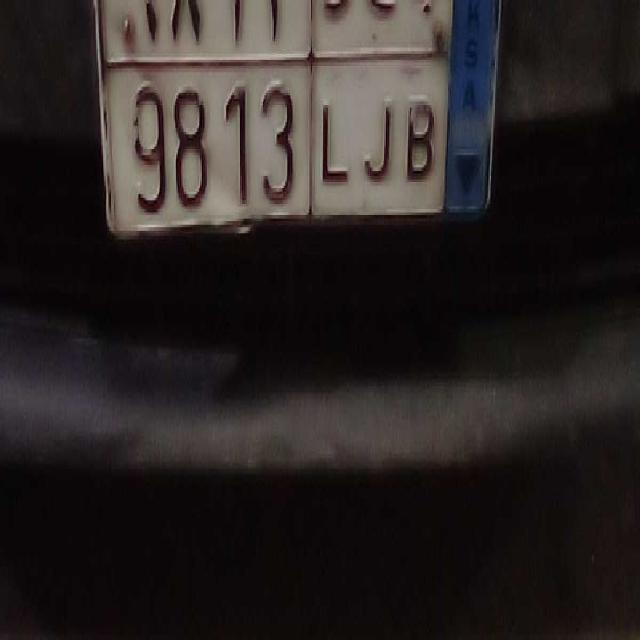license_plate: (118, 53, 444, 220)
